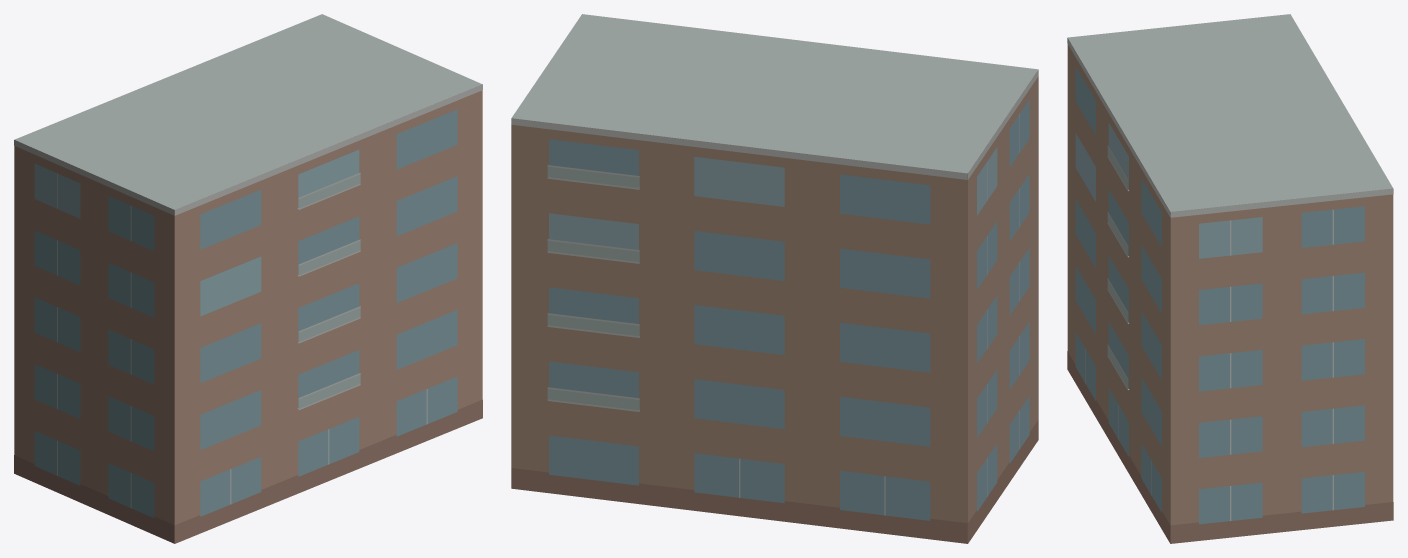
The model's file is survey-upis-33021866.glb.
3 views of the same model, side by side, from view 1: azimuth 30°, elevation 25°; view 2: azimuth 150°, elevation 25°; view 3: azimuth 270°, elevation 25° (orthographic). The views are drawn at different scales.
Visible parts, largest first — view 1: survey-upis-33021866.tmp; view 2: survey-upis-33021866.tmp; view 3: survey-upis-33021866.tmp.
Boxes of the visible parts, bbox=[...] form: survey-upis-33021866.tmp: bbox=[14, 14, 482, 543]; survey-upis-33021866.tmp: bbox=[511, 14, 1038, 543]; survey-upis-33021866.tmp: bbox=[1067, 14, 1393, 543].
Bounding box in the file's own units: 17.79 × 13.9 × 12.38.
